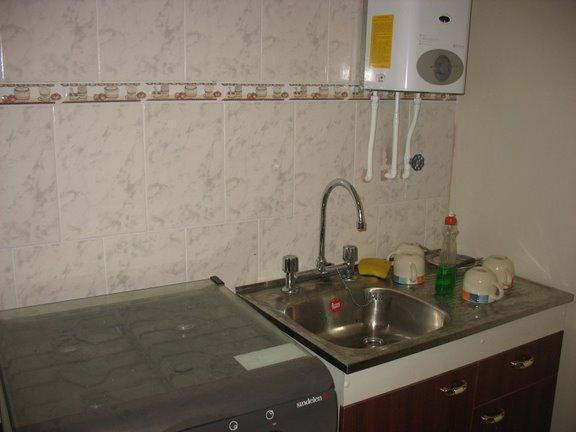Electrodomestico: (2, 297, 331, 431)
Lavaplatos: (270, 193, 452, 360)
